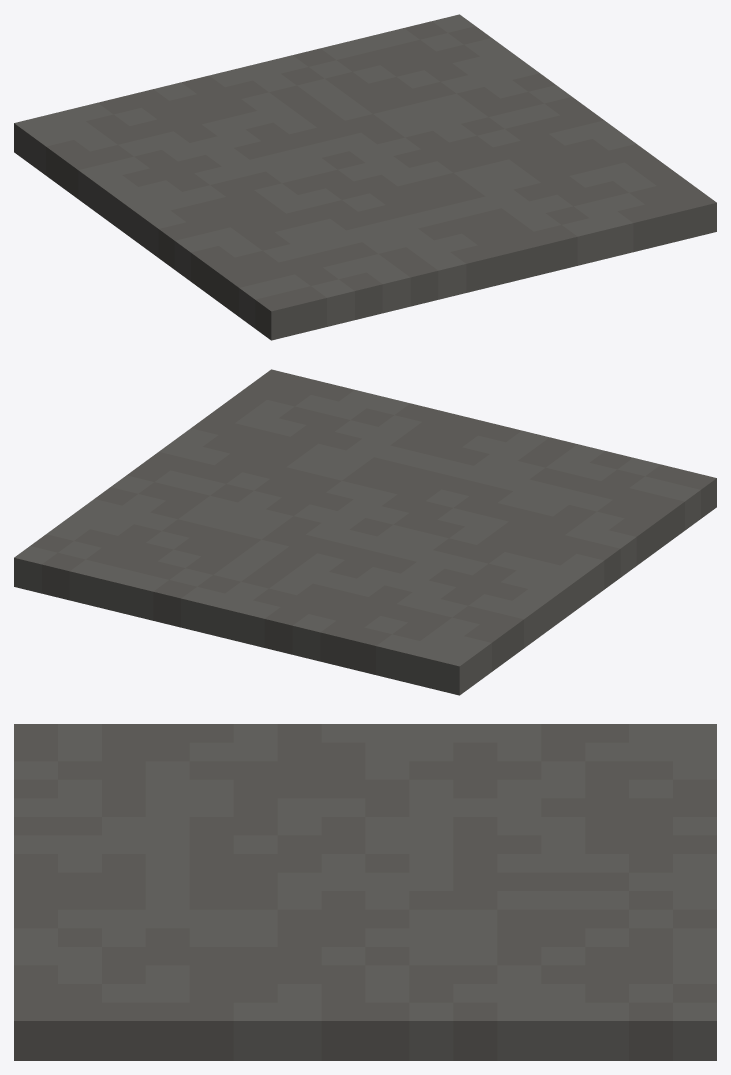
Rendered from church-14-cata_floor.obj.
3 views of the same model, one above another, from view 1: azimuth 30°, elevation 25°; view 2: azimuth 150°, elevation 25°; view 3: azimuth 270°, elevation 25° (orthographic). The views are drawn at different scales.
Visible parts, largest first — view 1: cata_floor; view 2: cata_floor; view 3: cata_floor.
Part boxes in pixels (x1=…): cata_floor: x1=14, y1=14, x2=716, y2=340; cata_floor: x1=14, y1=369, x2=716, y2=695; cata_floor: x1=14, y1=724, x2=716, y2=1060.
Bounding box in the file's own units: 1.6 × 0.1 × 1.6.
Materials: 1 (1 with a texture image).
